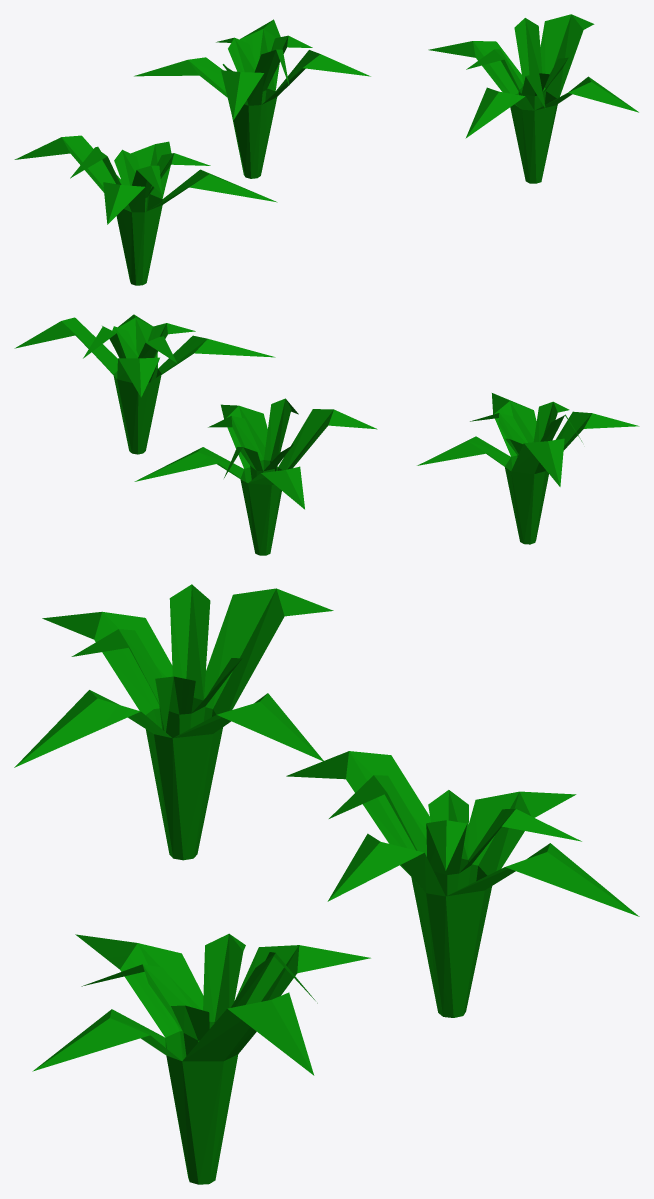
Rendered from ArrozF1.glb.
The picture shows the model from 3 angles, top to bottom: view 1: azimuth 30°, elevation 25°; view 2: azimuth 150°, elevation 25°; view 3: azimuth 270°, elevation 25°; orthographic projection. The views are drawn at different scales.
Visible parts, largest first — view 1: ArrozF1; view 2: ArrozF1; view 3: ArrozF1.
Boxes of the visible parts, left/top/right/bottom form: ArrozF1: left=14, top=14, right=638, bottom=285; ArrozF1: left=14, top=314, right=639, bottom=555; ArrozF1: left=14, top=584, right=639, bottom=1184.
Bounding box in the file's own units: 0.5459 × 0.1298 × 0.3105.
Materials: 1 (1 with a texture image).
